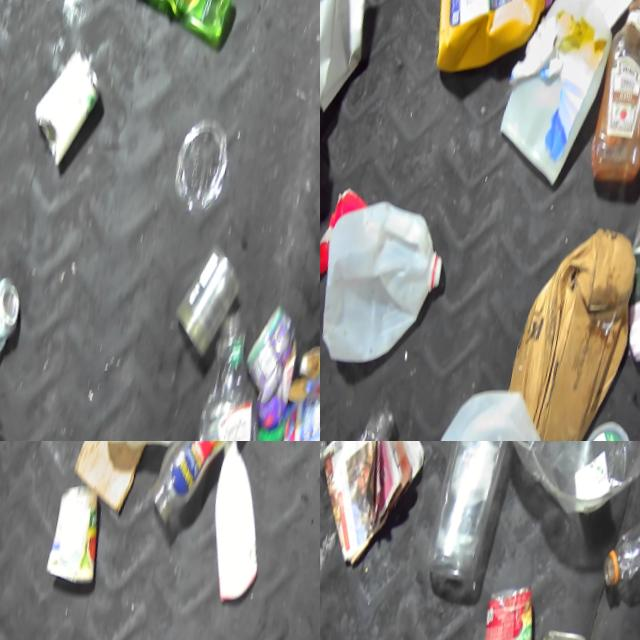can: (23, 41, 111, 186), (161, 254, 243, 375), (232, 309, 305, 441), (41, 483, 112, 599), (464, 584, 545, 640), (0, 261, 31, 378)
milk_jug: (320, 188, 455, 384), (411, 375, 559, 441)
non_white_jug: (413, 0, 580, 95)
plastic_bottle: (417, 441, 523, 613), (177, 317, 283, 441), (595, 444, 640, 615)
